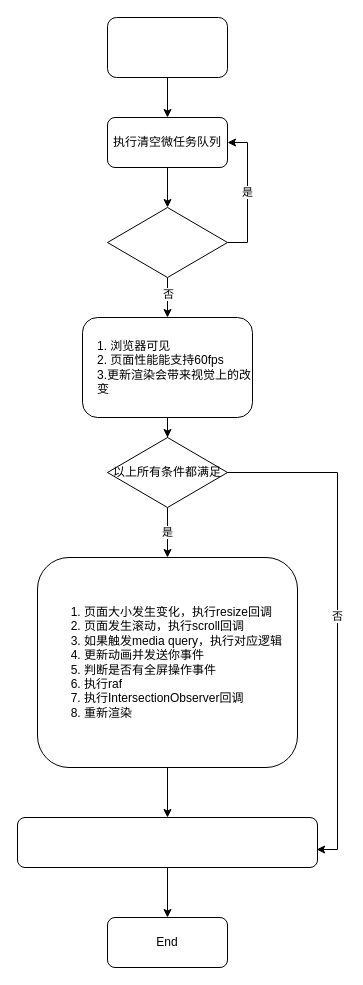
The diagram is 363 pixels wide and 985 high, and some of its shapes have lost their labels. Here are the shapes that lost their labels. From the top down, the box of each, then its label:
(106, 16, 228, 78): 宏任务取出执行
(106, 206, 228, 278): 是否插入微任务
(16, 816, 318, 868): 如果宏任务和微任务都空，执行requestIdleCallback
